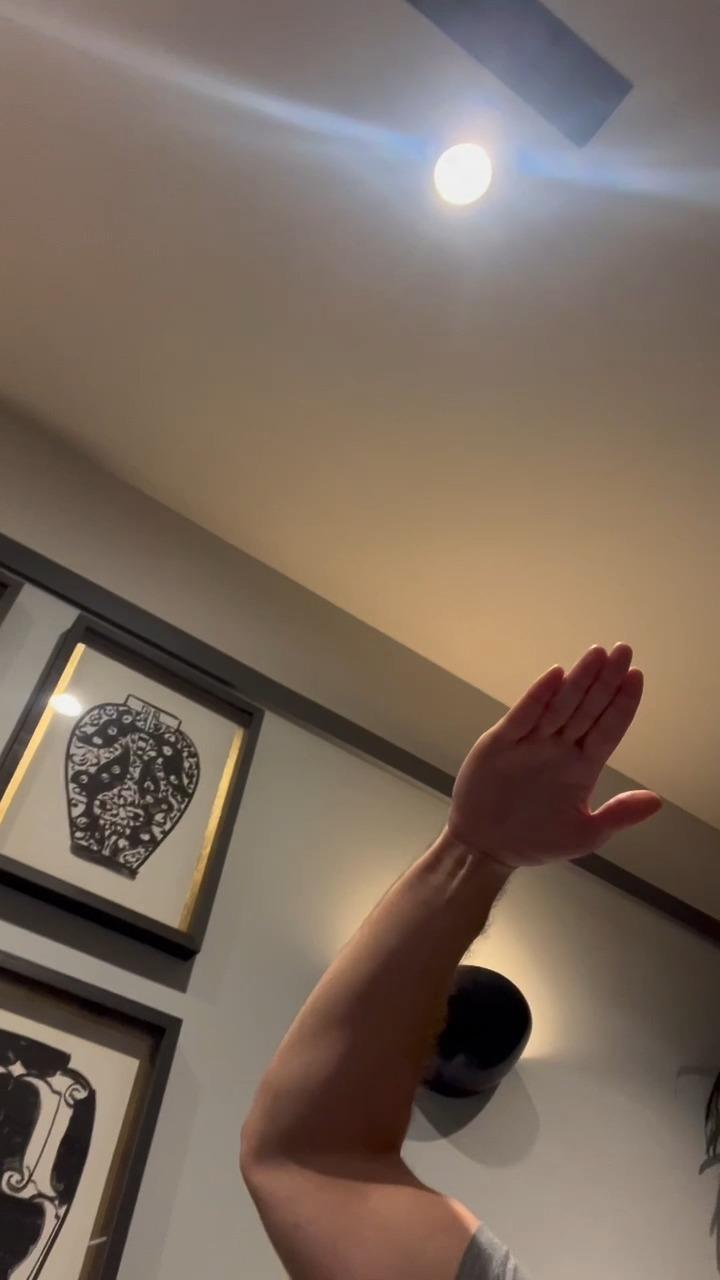Paper: (442, 644, 667, 868)
